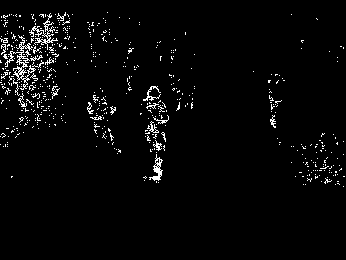person: (138, 84, 174, 191), (83, 84, 120, 158)
